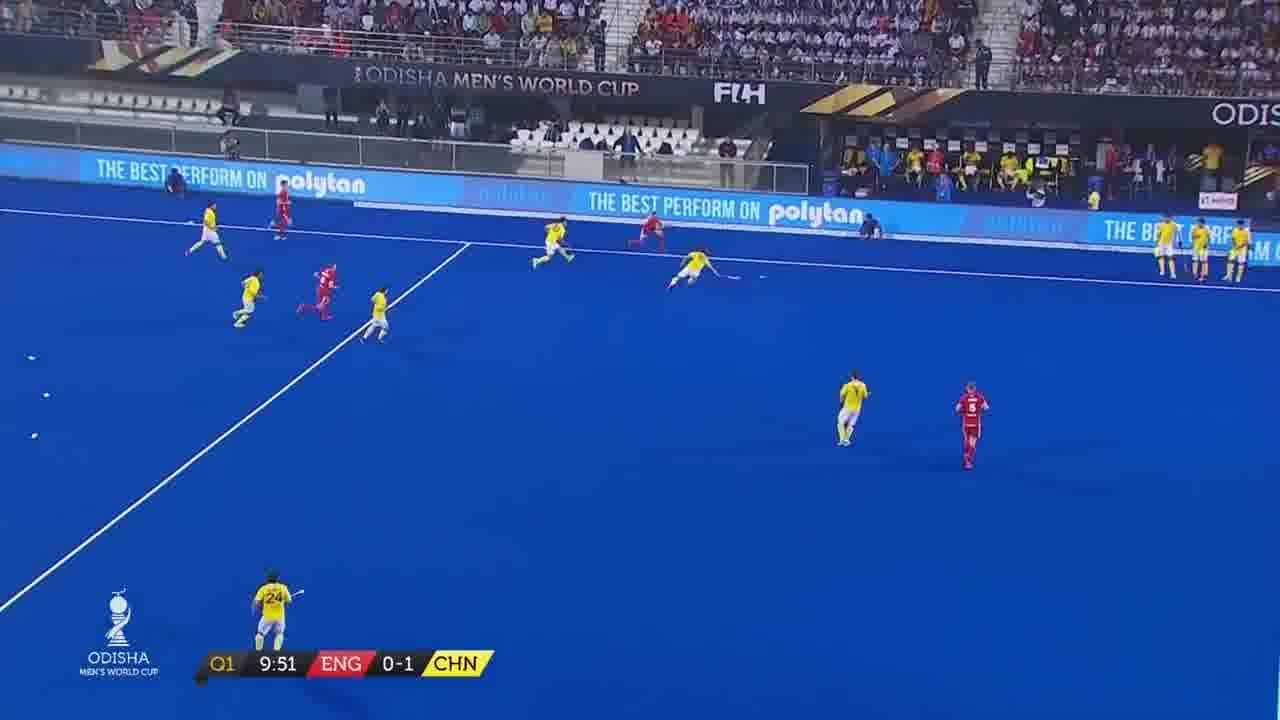ball: (752, 268, 782, 285)
